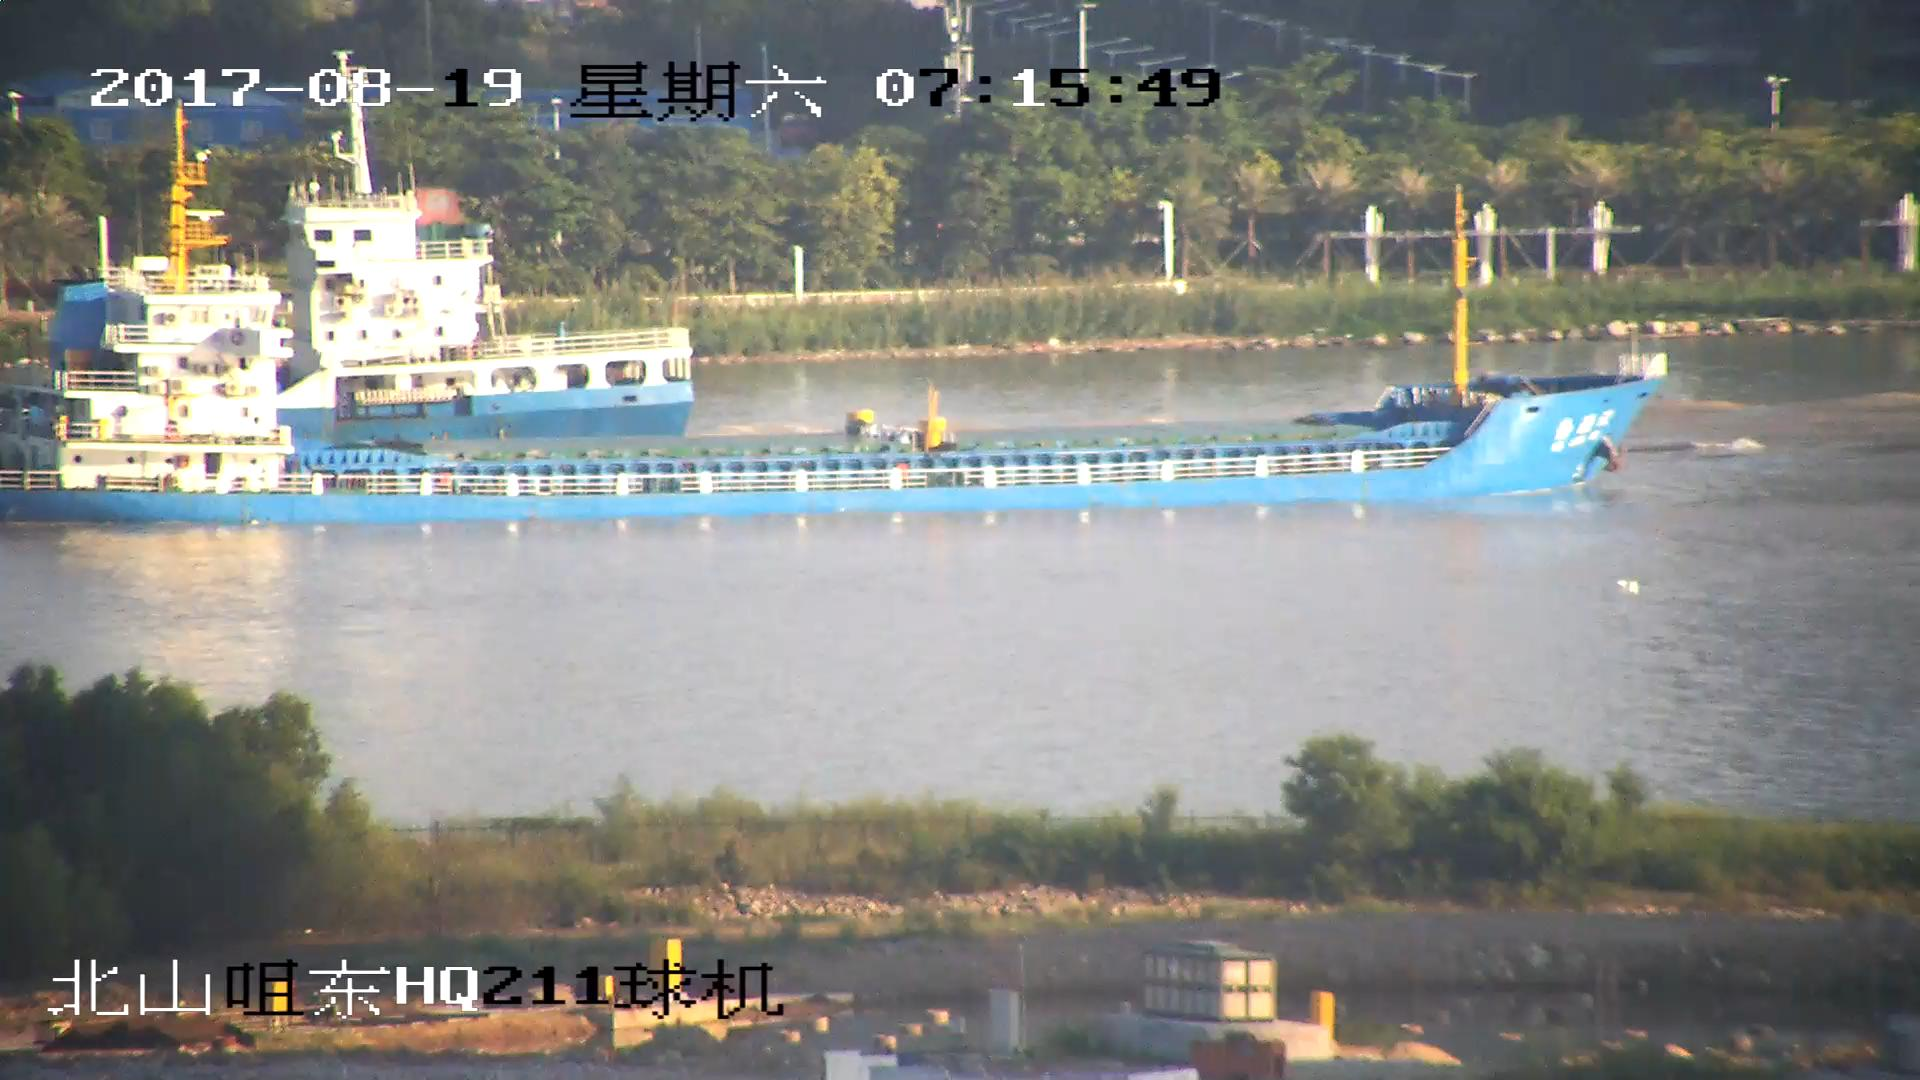general cargo ship: (1, 103, 1669, 519), (1, 113, 695, 439)
